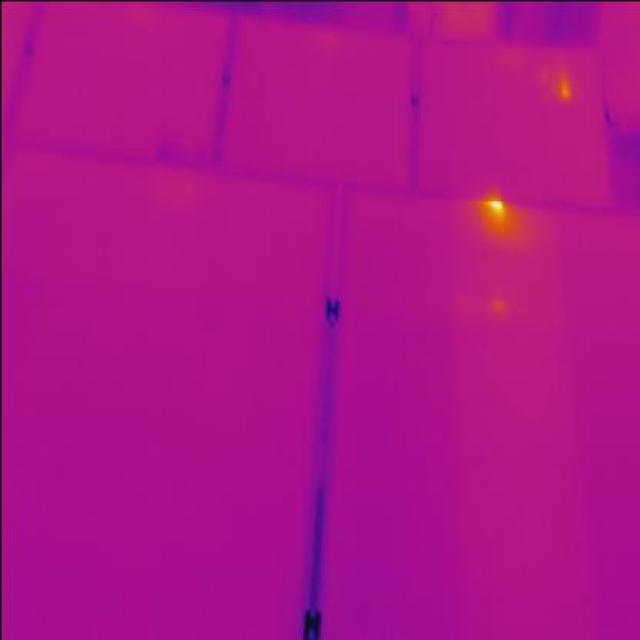hotspot: (473, 192, 519, 238)
